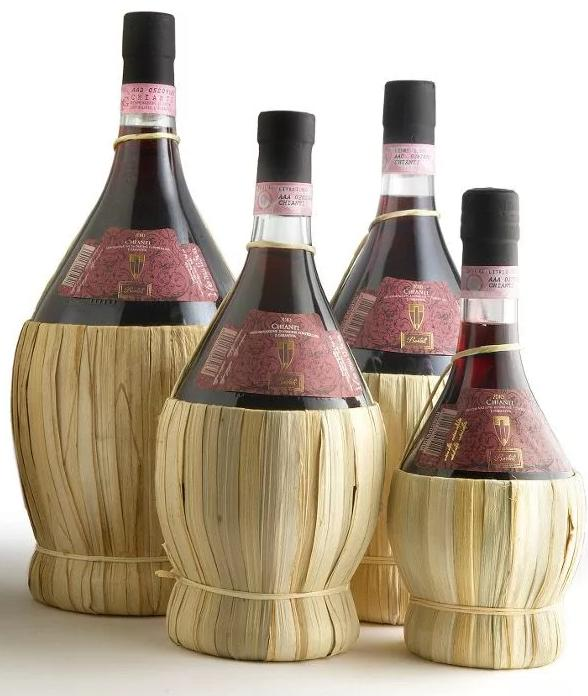wine bottle: (11, 10, 235, 615), (154, 109, 388, 662), (388, 186, 587, 671), (328, 81, 463, 624)
wine label: (194, 308, 366, 398), (416, 383, 572, 472), (54, 226, 220, 302), (340, 275, 463, 356)
